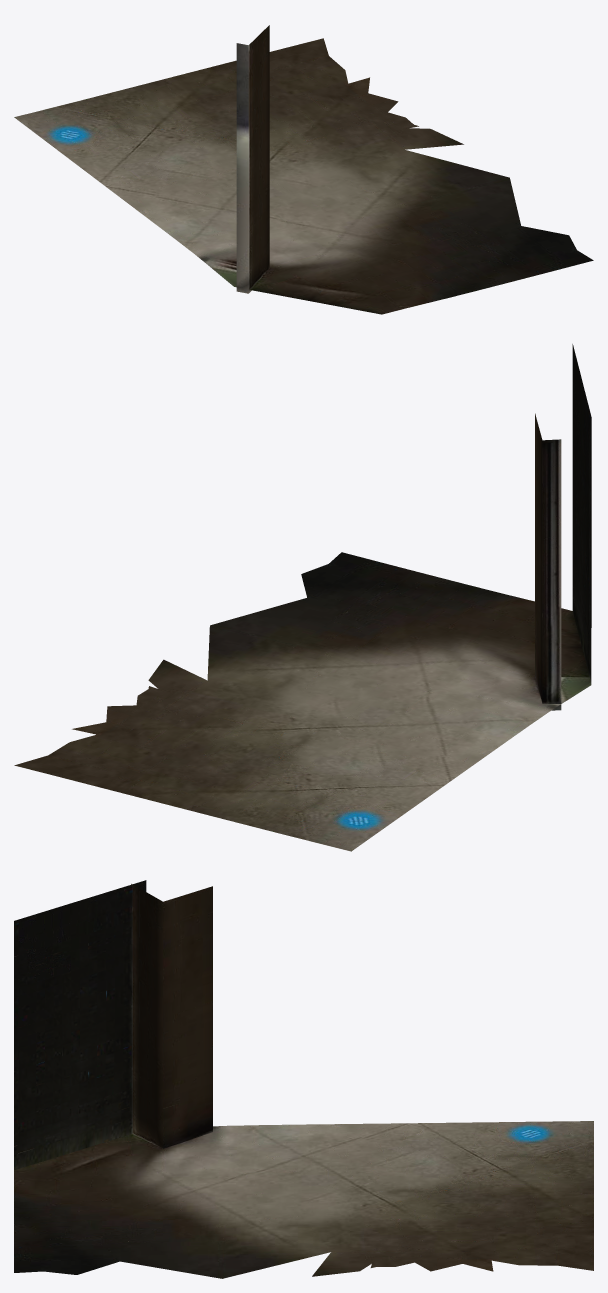
3 renders of one model, top to bottom at view 1: azimuth 30°, elevation 25°; view 2: azimuth 150°, elevation 25°; view 3: azimuth 270°, elevation 25°, orthographic. The views are drawn at different scales.
Bounding box in the file's own units: 3.8 × 2.88 × 6.01.
Materials: 1 (1 with a texture image).
